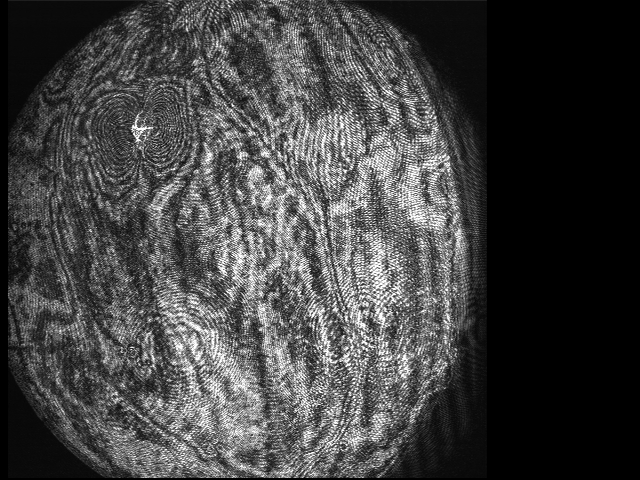plume: (91, 82, 196, 199)
